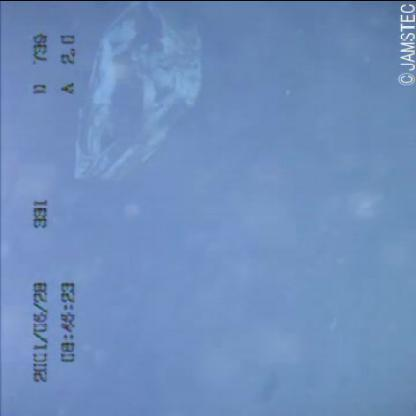Rác: (64, 1, 204, 190)
